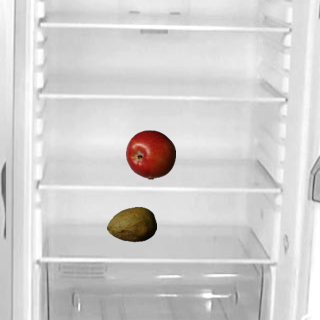Apple Braeburn: (125, 129, 175, 179)
Papaya: (106, 199, 156, 249)
